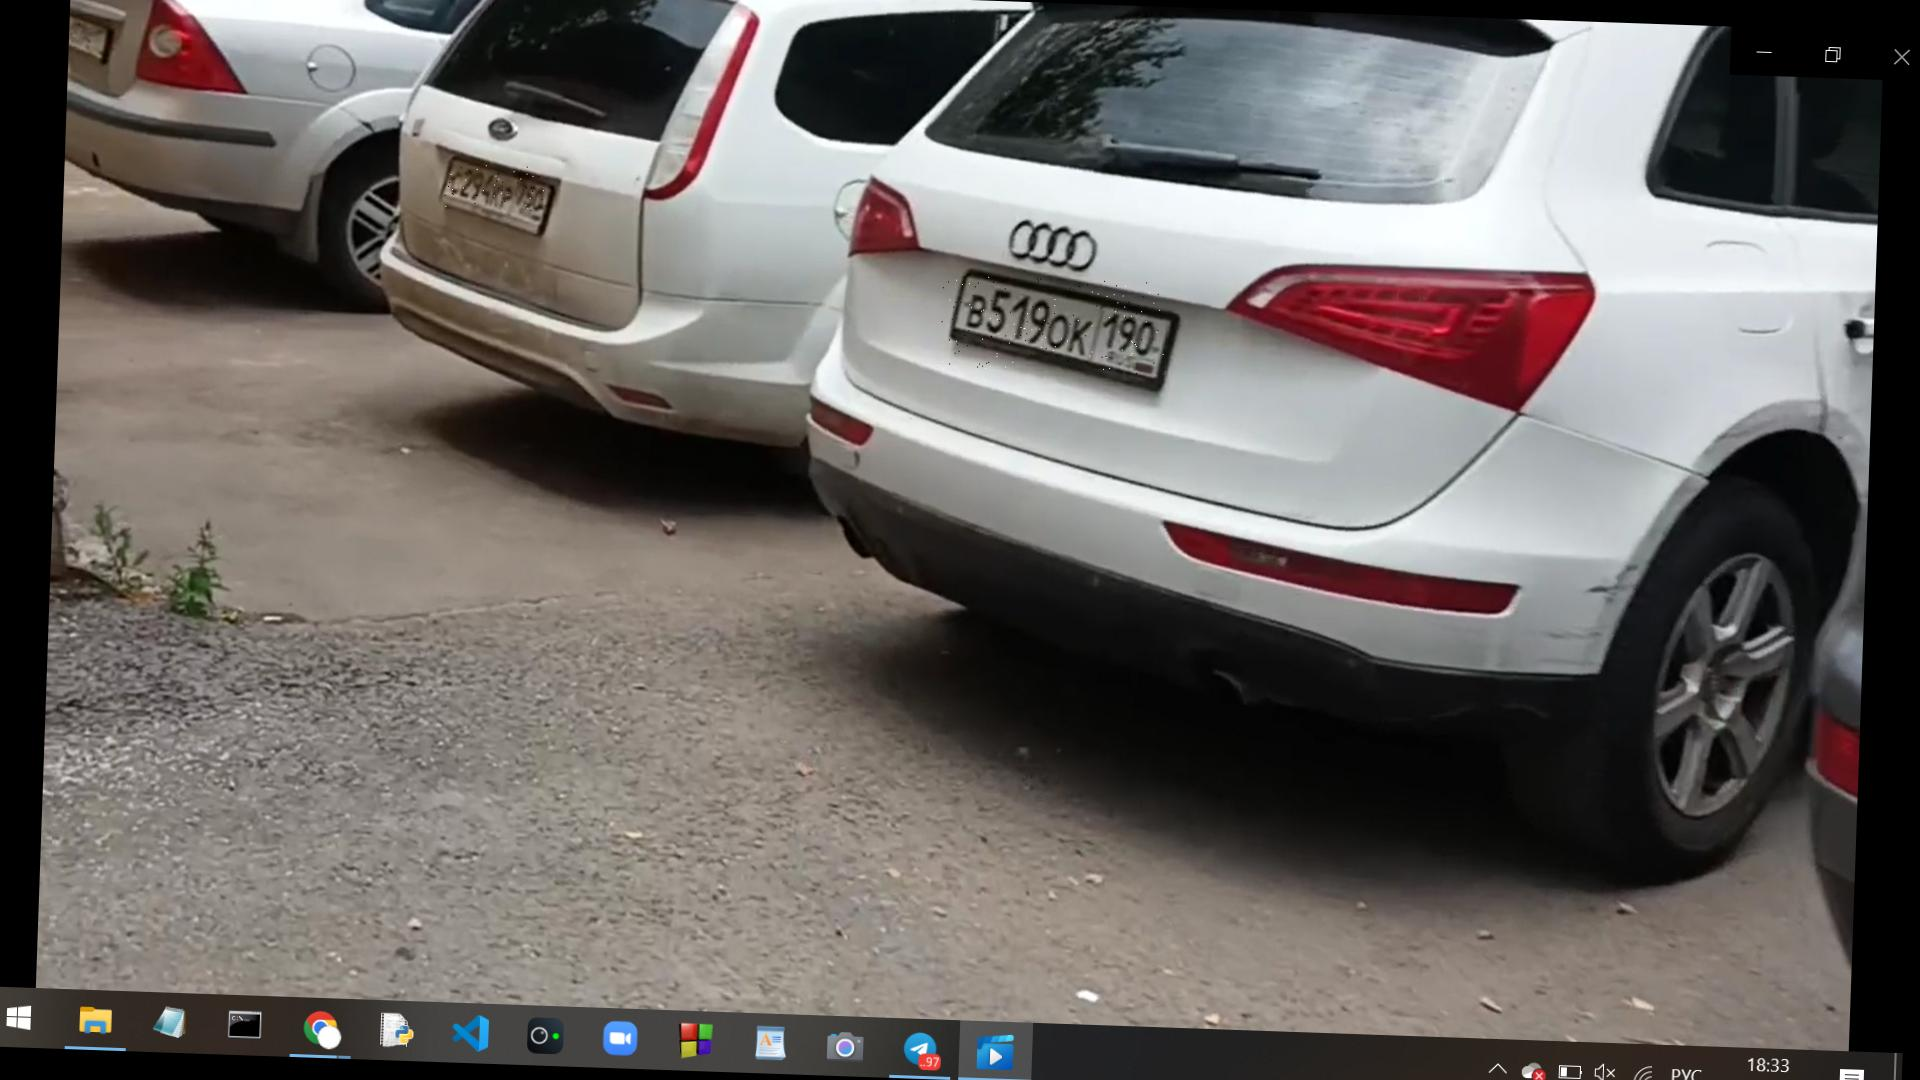plate: (942, 276, 1171, 376), (444, 165, 551, 213)
